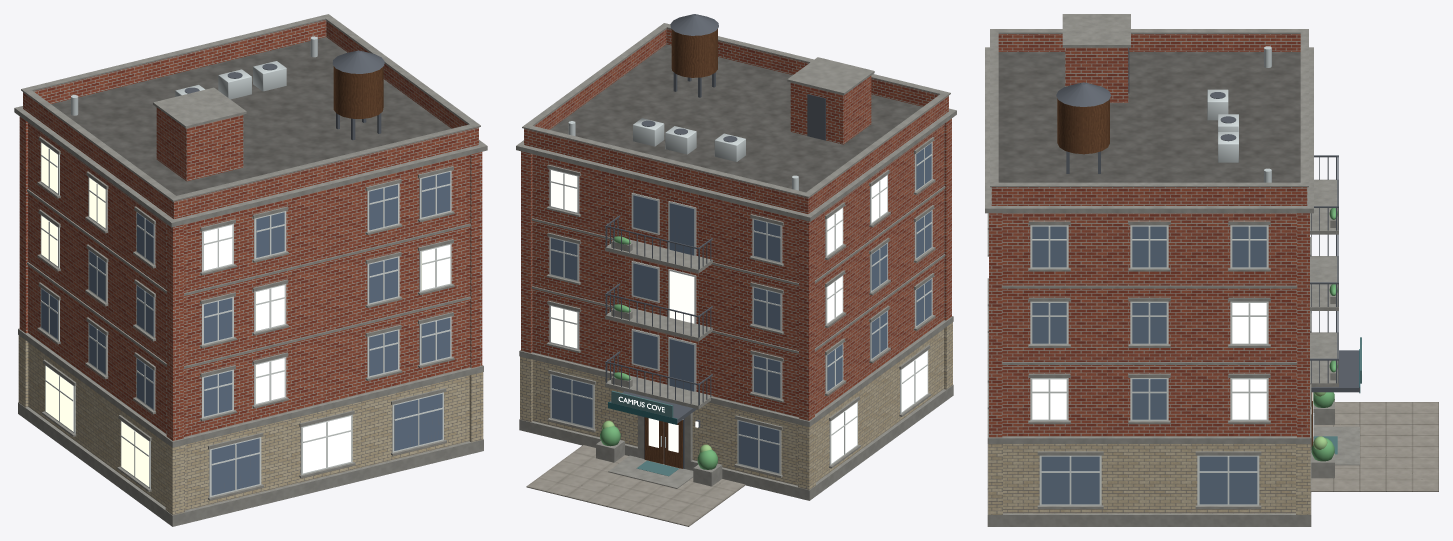
The model's file is CampusApartmentExterior.glb.
The picture shows the model from 3 angles, left to right: view 1: azimuth 30°, elevation 25°; view 2: azimuth 150°, elevation 25°; view 3: azimuth 270°, elevation 25°; orthographic projection. The views are drawn at different scales.
Visible parts, largest first — view 1: Bldg_Parapet_E, Bldg_Balconies, Bldg_Roof, Bldg_GroundFloor, Bldg_Entrance; view 2: Bldg_Parapet_E, Bldg_Balconies, Bldg_Roof, Bldg_GroundFloor, Bldg_Forecourt, Bldg_Entrance; view 3: Bldg_Parapet_E, Bldg_Balconies, Bldg_Roof, Bldg_GroundFloor, Bldg_Forecourt, Bldg_Entrance.
Part boxes in pixels (x1,y1,x2,y2): Bldg_Parapet_E: [19, 20, 482, 441]; Bldg_Balconies: [14, 14, 487, 526]; Bldg_Roof: [51, 37, 451, 195]; Bldg_GroundFloor: [18, 335, 483, 514]; Bldg_Entrance: [333, 66, 383, 118]; Bldg_Parapet_E: [521, 28, 951, 420]; Bldg_Balconies: [516, 14, 956, 500]; Bldg_Roof: [550, 44, 922, 192]; Bldg_GroundFloor: [520, 322, 952, 489]; Bldg_Forecourt: [526, 445, 745, 526]; Bldg_Entrance: [608, 29, 717, 468]; Bldg_Parapet_E: [989, 34, 1309, 437]; Bldg_Balconies: [985, 14, 1361, 526]; Bldg_Roof: [998, 52, 1300, 182]; Bldg_GroundFloor: [988, 444, 1310, 514]; Bldg_Forecourt: [1311, 402, 1438, 491]; Bldg_Entrance: [1057, 98, 1360, 446].
Size of the model in its own units: 14.5 by 16.9 by 17.25.
Materials: 11 (11 with a texture image).
